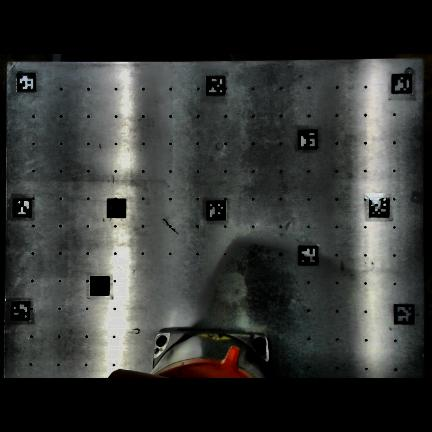marker: (393, 303, 416, 326), (206, 199, 227, 221), (206, 75, 226, 96), (12, 197, 33, 217), (369, 197, 390, 217), (392, 74, 412, 94), (107, 199, 127, 219), (10, 301, 30, 321), (299, 129, 318, 150), (90, 277, 110, 296), (299, 246, 319, 265), (17, 73, 37, 91)
